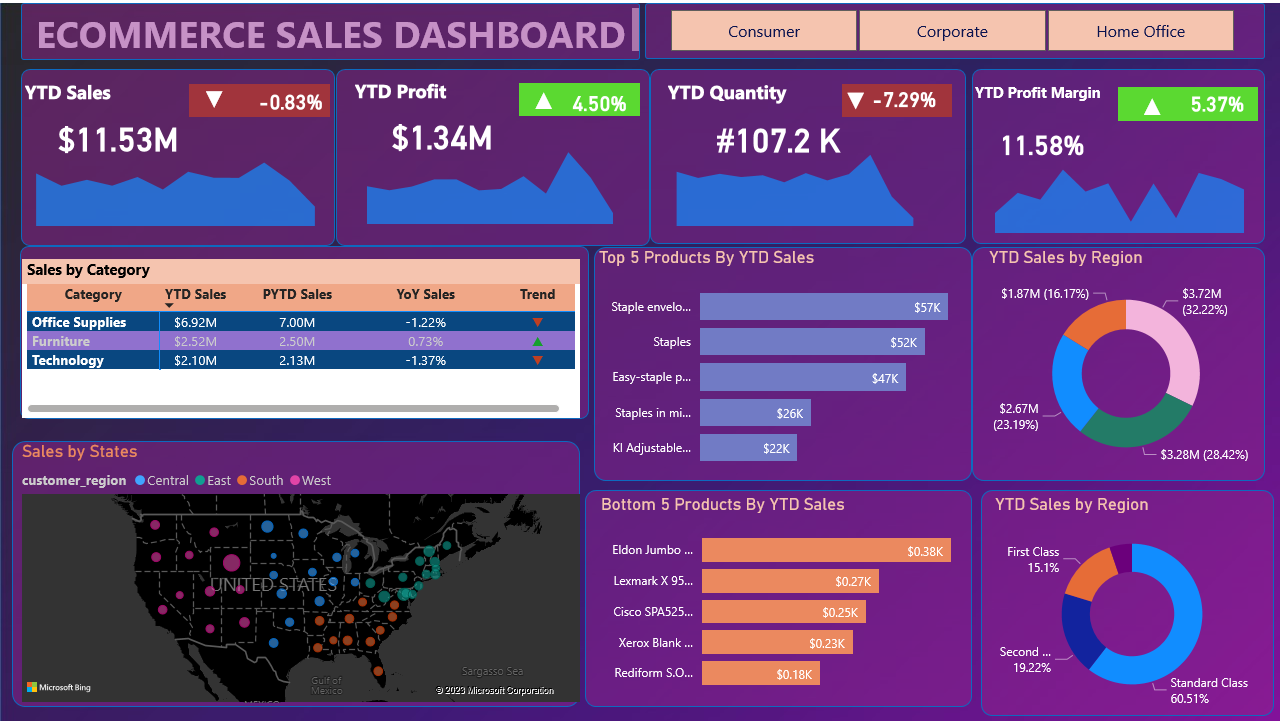

The dashboard page shown, as its layout file describes it:
{"tool":"powerbi","page":{"name":"Page 1","canvas":[1280,720],"ordinal":0},"visuals":[{"type":"textbox","box":[31.5,0,608.8,56.2],"z":0},{"type":"shape","box":[20.6,0,619.4,56.5],"z":1000},{"type":"shape","box":[20.6,65.5,314.9,177.3],"z":2000},{"type":"card","fields":{"Values":["ecommerce_data.YTD Sales"]},"box":[20.6,100.2,194.1,68.1],"z":3000},{"type":"areaChart","fields":{"Category":["Calendar.Month"],"Y2":["Sum(ecommerce_data.sales_per_order)"]},"box":[20.6,134.9,309.7,92.5],"z":4000},{"type":"shape","box":[188.9,81,141.4,33.4],"z":5000},{"type":"card","fields":{"Values":["ecommerce_data.YoY Sales"]},"box":[250.6,83.5,79.7,30.8],"z":6000},{"type":"card","fields":{"Values":["ecommerce_data.Sales Icon"]},"box":[188.9,82.2,50.1,28.3],"z":7000},{"type":"textbox","box":[20.2,70.8,142.7,35.9],"z":8000},{"type":"shape","box":[335.9,66.3,314.5,176.3],"z":9000},{"type":"card","fields":{"Values":["ecommerce_data.YTD Profit"]},"box":[365,97.7,154.2,68.1],"z":10000},{"type":"areaChart","fields":{"Category":["Calendar.Month"],"Y":["Sum(ecommerce_data.profit_per_order)"]},"box":[352.7,132.5,274.1,92.1],"z":11000},{"type":"shape","box":[519.2,79.7,120.8,33.4],"z":12000},{"type":"card","fields":{"Values":["ecommerce_data.YoY profit"]},"box":[559,84.8,81,30.8],"z":13000},{"type":"card","fields":{"Values":["ecommerce_data.Profit Icon"]},"box":[519.2,83.5,48.8,28.3],"z":14000},{"type":"textbox","box":[350.5,69.6,142.7,35.9],"z":15000},{"type":"shape","box":[650.4,66.3,315.6,175.2],"z":16000},{"type":"card","fields":{"Values":["ecommerce_data.YTD Concatenated Qty"]},"box":[701.4,101.2,154.2,68.1],"z":17000},{"type":"areaChart","fields":{"Category":["Calendar.Month"],"Y":["Sum(ecommerce_data.order_quantity)"]},"box":[662.7,134.8,264,92.1],"z":18000},{"type":"shape","box":[841.8,81,110.5,33.4],"z":19000},{"type":"card","fields":{"Values":["ecommerce_data.YoY Qty"]},"box":[855.9,81,96.4,30.8],"z":20000},{"type":"card","fields":{"Values":["ecommerce_data.Qty Icon"]},"box":[832.8,83.5,45,28.3],"z":21000},{"type":"textbox","box":[662.7,70.8,142.7,35.9],"z":22000},{"type":"shape","box":[971.6,66.3,293.2,175.2],"z":23000},{"type":"card","fields":{"Values":["ecommerce_data.YTD profit Margin"]},"box":[980.6,106.7,122.4,68.5],"z":24000},{"type":"areaChart","fields":{"Category":["Calendar.Month"],"Y":["ecommerce_data.Profit Margin"]},"box":[980.6,141.5,277.4,92.1],"z":25000},{"type":"shape","box":[1118.1,83.5,140.1,34.7],"z":26000},{"type":"card","fields":{"Values":["ecommerce_data.YoY Profit Margin"]},"box":[1169.5,84.8,95.1,32.1],"z":27000},{"type":"card","fields":{"Values":["ecommerce_data.Profit Icon"]},"box":[1116.8,90,70.7,28.3],"z":28000},{"type":"textbox","box":[970.5,74.1,183.1,33.7],"z":29000},{"type":"shape","box":[20.2,242.6,568.4,173],"z":29001},{"type":"pivotTable","title":"Sales by Category","fields":{"Rows":["ecommerce_data.category_name"],"Values":["ecommerce_data.YTD Sales","ecommerce_data.PYTD Sales","ecommerce_data.YoY Sales","ecommerce_data.Sales Icon"]},"box":[21.8,255.7,557.8,159.4],"z":29002},{"type":"shape","box":[11.6,438.2,568,266],"z":29003},{"type":"map","title":"Sales by States","fields":{"X":["us_state_long_lat_codes.longitude"],"Y":["us_state_long_lat_codes.latitude"],"Series":["ecommerce_data.customer_region"],"Size":["ecommerce_data.YoY Sales"]},"box":[16.7,438.2,568,266],"z":29004},{"type":"shape","box":[593.7,244.2,377.8,233.9],"z":29005},{"type":"shape","box":[585.2,487.5,386.4,216.8],"z":29006},{"type":"barChart","title":"Top 5 Products By YTD Sales","fields":{"Category":["ecommerce_data.product_name"],"Y":["ecommerce_data.YTD Sales"]},"box":[593.7,244.2,372.7,233.9],"z":29007},{"type":"barChart","title":"Bottom 5 Products By YTD Sales","fields":{"Category":["ecommerce_data.product_name"],"Y":["ecommerce_data.YTD Sales"]},"box":[596.4,490.9,372.9,208.9],"z":29008},{"type":"shape","box":[971.6,244.2,293,233.9],"z":29009},{"type":"shape","box":[980.6,487.1,293,226.2],"z":29010},{"type":"donutChart","title":"YTD Sales by  Region","fields":{"Category":["ecommerce_data.customer_region"],"Y":["ecommerce_data.YTD Sales"]},"box":[984.4,244.2,284,233.9],"z":29011},{"type":"donutChart","title":"YTD Sales by  Region","fields":{"Y":["ecommerce_data.YTD Sales"],"Category":["ecommerce_data.shipping_type"]},"box":[989.6,490.9,284.2,221.3],"z":29012},{"type":"shape","box":[644.7,0,620,56.2],"z":29013},{"type":"slicer","fields":{"Values":["ecommerce_data.customer_segment"]},"box":[644.7,0,613.3,55],"z":29014}]}

Visuals, with their boxes in screenshot pixels (x1, y1, x2, y2), scaled from the page's 1280x720 canvas onto the 1283x725 screenshot:
textbox: crop(32, 0, 642, 57)
shape: crop(21, 0, 642, 57)
shape: crop(21, 66, 336, 244)
card - ecommerce_data.YTD Sales: crop(21, 101, 215, 169)
areaChart - Calendar.Month x Sum(ecommerce_data.sales_per_order): crop(21, 136, 331, 229)
shape: crop(189, 82, 331, 115)
card - ecommerce_data.YoY Sales: crop(251, 84, 331, 115)
card - ecommerce_data.Sales Icon: crop(189, 83, 240, 111)
textbox: crop(20, 71, 163, 107)
shape: crop(337, 67, 652, 244)
card - ecommerce_data.YTD Profit: crop(366, 98, 520, 167)
areaChart - Calendar.Month x Sum(ecommerce_data.profit_per_order): crop(354, 133, 628, 226)
shape: crop(520, 80, 642, 114)
card - ecommerce_data.YoY profit: crop(560, 85, 642, 116)
card - ecommerce_data.Profit Icon: crop(520, 84, 569, 113)
textbox: crop(351, 70, 494, 106)
shape: crop(652, 67, 968, 243)
card - ecommerce_data.YTD Concatenated Qty: crop(703, 102, 858, 170)
areaChart - Calendar.Month x Sum(ecommerce_data.order_quantity): crop(664, 136, 929, 228)
shape: crop(844, 82, 955, 115)
card - ecommerce_data.YoY Qty: crop(858, 82, 955, 113)
card - ecommerce_data.Qty Icon: crop(835, 84, 880, 113)
textbox: crop(664, 71, 807, 107)
shape: crop(974, 67, 1268, 243)
card - ecommerce_data.YTD profit Margin: crop(983, 107, 1106, 176)
areaChart - Calendar.Month x ecommerce_data.Profit Margin: crop(983, 142, 1261, 235)
shape: crop(1121, 84, 1261, 119)
card - ecommerce_data.YoY Profit Margin: crop(1172, 85, 1268, 118)
card - ecommerce_data.Profit Icon: crop(1119, 91, 1190, 119)
textbox: crop(973, 75, 1156, 109)
shape: crop(20, 244, 590, 418)
"Sales by Category" pivotTable: crop(22, 257, 581, 418)
shape: crop(12, 441, 581, 709)
"Sales by States" map: crop(17, 441, 586, 709)
shape: crop(595, 246, 974, 481)
shape: crop(587, 491, 974, 709)
"Top 5 Products By YTD Sales" barChart: crop(595, 246, 969, 481)
"Bottom 5 Products By YTD Sales" barChart: crop(598, 494, 972, 705)
shape: crop(974, 246, 1268, 481)
shape: crop(983, 490, 1277, 718)
"YTD Sales by  Region" donutChart: crop(987, 246, 1271, 481)
"YTD Sales by  Region" donutChart: crop(992, 494, 1277, 717)
shape: crop(646, 0, 1268, 57)
slicer - ecommerce_data.customer_segment: crop(646, 0, 1261, 55)
